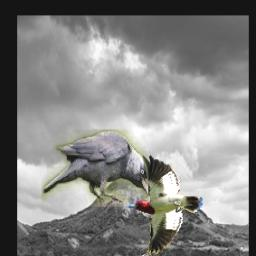Crow: (42, 131, 148, 208)
Woodpecker: (127, 155, 203, 256)
